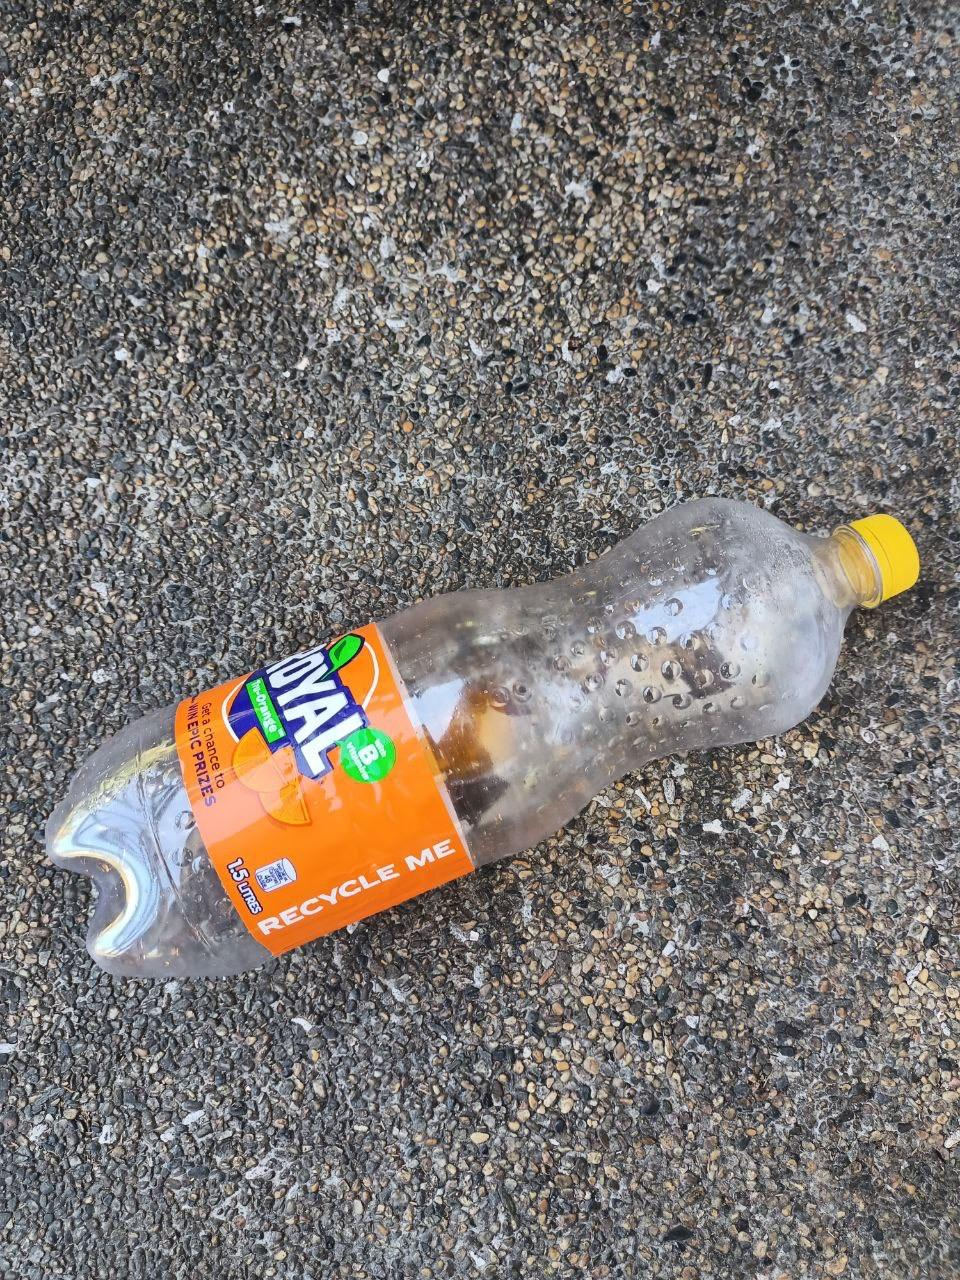plastic: (25, 499, 935, 1006)
